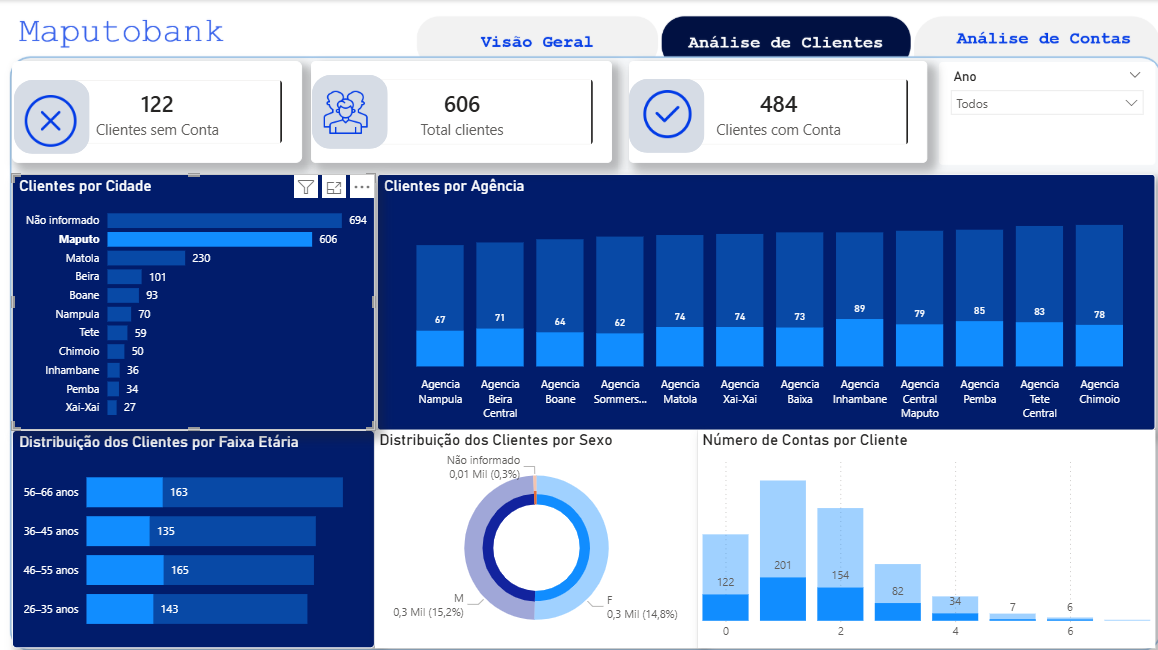

What the dashboard file says about the page in this screenshot:
{"tool":"powerbi","page":{"name":"Análise dos Clientes ","canvas":[1280,720],"ordinal":1},"visuals":[{"type":"cardVisual","fields":{"Data":["dim_clientes.Clientes sem Conta"]},"box":[15.4,67.1,318.9,112.2],"z":0,"group":"g1"},{"type":"columnChart","title":"Clientes por Agência ","fields":{"Category":["dim_agencias.nome_agencia"],"Y":["dim_clientes.Clientes por agência"]},"box":[416.8,191.3,855.5,281.5],"z":0},{"type":"cardVisual","fields":{"Data":["dim_clientes.Clientes com Conta"]},"box":[693.9,67.1,327.7,112.2],"z":1000,"group":"g3"},{"type":"barChart","title":"Distribuição dos Clientes por Faixa Etária","fields":{"Category":["dim_clientes.Faixa Etária"],"Y":["CountNonNull(dim_clientes.id_cliente)"]},"box":[15.4,472.9,399.2,239.7],"z":1000},{"type":"donutChart","title":"Distribuição dos Clientes por Sexo","fields":{"Category":["dim_clientes.sexo"],"Y":["CountNonNull(dim_clientes.id_cliente)"]},"box":[414.6,472.9,355.2,239.7],"z":2000},{"type":"barChart","title":"Clientes por Cidade","fields":{"Category":["dim_clientes.cidade"],"Y":["CountNonNull(dim_clientes.id_cliente)"]},"box":[15.4,191.3,399.2,281.5],"z":3000},{"type":"cardVisual","fields":{"Data":["dim_clientes.Total clientes"]},"box":[344.2,67.1,331,112.2],"z":4000,"group":"g2"},{"type":"columnChart","title":"Número de Contas por Cliente","fields":{"Category":["dim_clientes.Contagem"],"Y":["CountNonNull(dim_clientes.id_cliente)"]},"box":[769.8,472.9,502.5,239.7],"z":4000},{"type":"slicer","fields":{"Values":["dim_clientes.data_cadastro.Variation.Hierarquia de datas.Ano"]},"box":[1034.8,68.2,237.5,113.3],"z":5000},{"type":"group","id":"g1","title":"Grupo 1","box":[15.4,67.1,318.9,112.2],"z":6000},{"type":"group","id":"g2","title":"Grupo 2","box":[344.2,67.1,331,112.2],"z":7000},{"type":"group","id":"g3","title":"Grupo 3","box":[693.9,67.1,327.7,112.2],"z":8000},{"type":"actionButton","box":[466.3,23.1,252.9,36.3],"z":8001},{"type":"actionButton","box":[1019.4,23.1,245.2,36.3],"z":8002},{"type":"shape","box":[17.2,88.2,83.1,81.4],"z":9000,"group":"g1"},{"type":"shape","box":[345.4,82.5,83.4,81.4],"z":10000,"group":"g2"},{"type":"shape","box":[693.9,86.9,82.8,81.4],"z":11000,"group":"g3"},{"type":"image","box":[345.4,99,73.6,49.5],"z":12000,"group":"g2"},{"type":"image","box":[702.3,99,67.2,52.8],"z":13000,"group":"g3"},{"type":"image","box":[26.9,104.7,63.5,57.2],"z":14000,"group":"g1"}]}

Visuals, with their boxes in screenshot pixels (x1, y1, x2, y2), scaled from the page's 1280x720 canvas onto the 1158x650 screenshot:
cardVisual - dim_clientes.Clientes sem Conta: bbox(14, 61, 302, 162)
"Clientes por Agência " columnChart: bbox(377, 173, 1151, 427)
cardVisual - dim_clientes.Clientes com Conta: bbox(628, 61, 924, 162)
"Distribuição dos Clientes por Faixa Etária" barChart: bbox(14, 427, 375, 643)
"Distribuição dos Clientes por Sexo" donutChart: bbox(375, 427, 696, 643)
"Clientes por Cidade" barChart: bbox(14, 173, 375, 427)
cardVisual - dim_clientes.Total clientes: bbox(311, 61, 611, 162)
"Número de Contas por Cliente" columnChart: bbox(696, 427, 1151, 643)
slicer - dim_clientes.data_cadastro.Variation.Hierarquia de datas.Ano: bbox(936, 62, 1151, 164)
"Grupo 1" group: bbox(14, 61, 302, 162)
"Grupo 2" group: bbox(311, 61, 611, 162)
"Grupo 3" group: bbox(628, 61, 924, 162)
actionButton: bbox(422, 21, 651, 54)
actionButton: bbox(922, 21, 1144, 54)
shape: bbox(16, 80, 91, 153)
shape: bbox(312, 74, 388, 148)
shape: bbox(628, 78, 703, 152)
image: bbox(312, 89, 379, 134)
image: bbox(635, 89, 696, 137)
image: bbox(24, 95, 82, 146)
